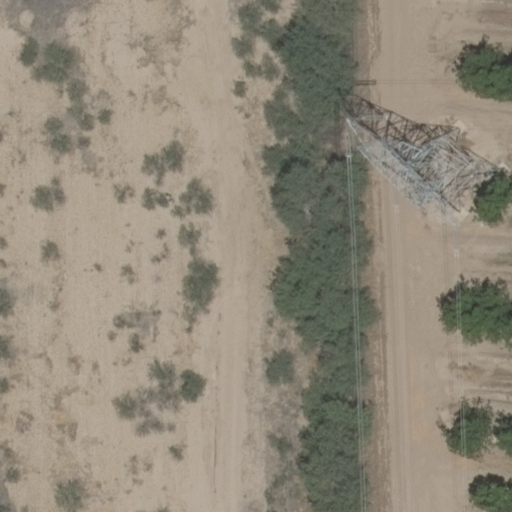TT: (345, 110, 490, 226)
